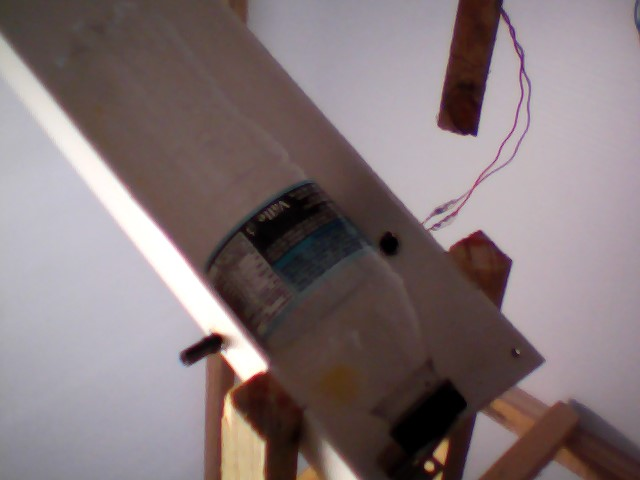plastico: (42, 2, 470, 457)
